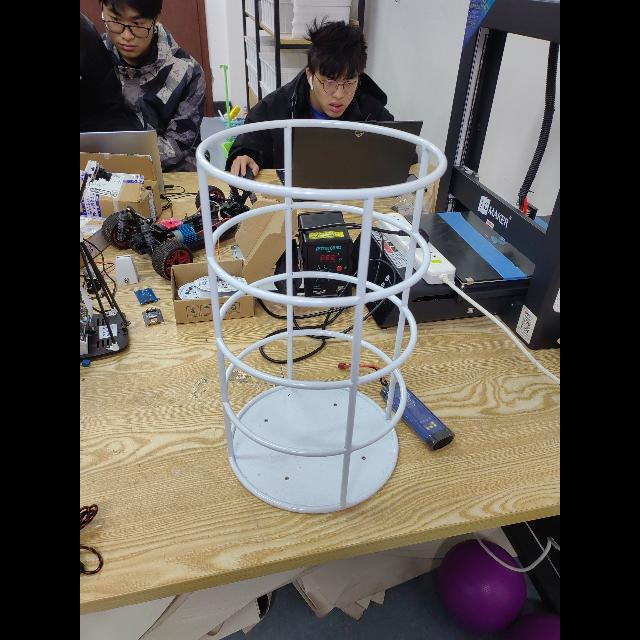S: (192, 108, 453, 516)
